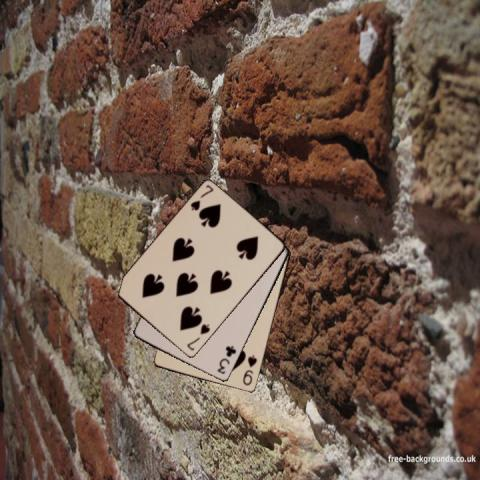3c: (215, 343, 237, 376)
7s: (187, 182, 215, 213), (184, 321, 211, 353)
9s: (240, 352, 259, 387)
